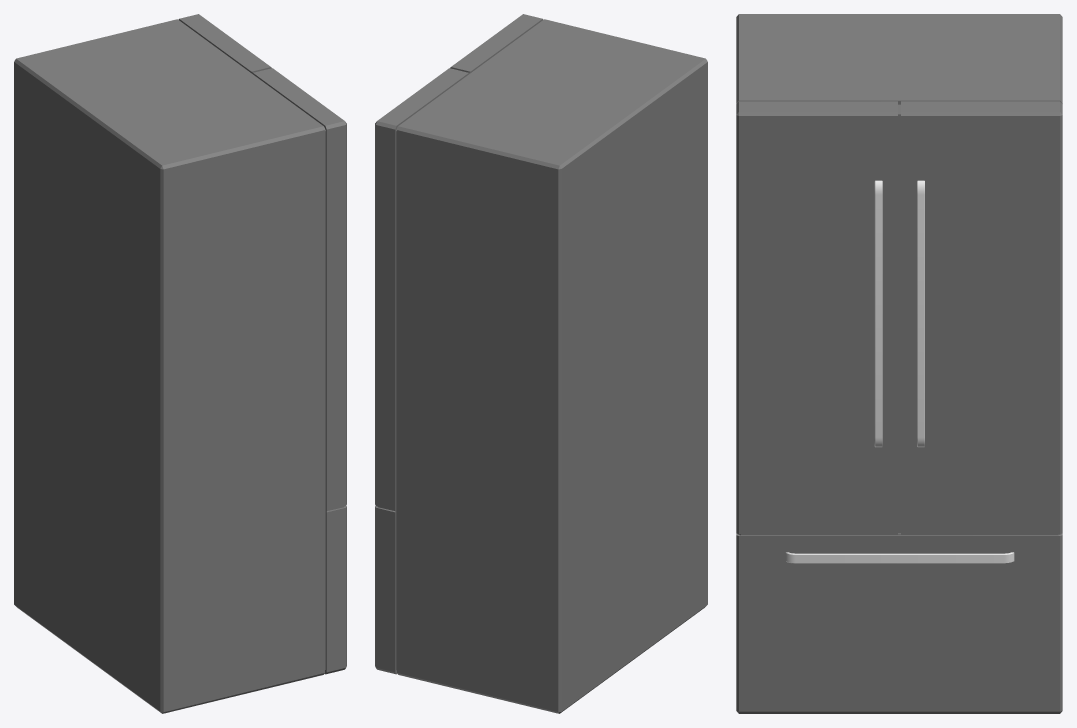
The model's file is kulkas.fbx.
The picture shows the model from 3 angles, left to right: view 1: azimuth 30°, elevation 25°; view 2: azimuth 150°, elevation 25°; view 3: azimuth 270°, elevation 25°; orthographic projection. The views are drawn at different scales.
Parts seen in each view (by area): view 1: kulkas.001; view 2: kulkas.001; view 3: kulkas.001, pegangan.
Boxes of the visible parts, x1,y1,x2,y2 form: kulkas.001: (14,14,346,713); kulkas.001: (375,14,707,713); kulkas.001: (736,14,1062,713); pegangan: (785,180,1014,563).
Size of the model in its own units: 389 by 1071 by 526.
2 materials, 1 textured.
